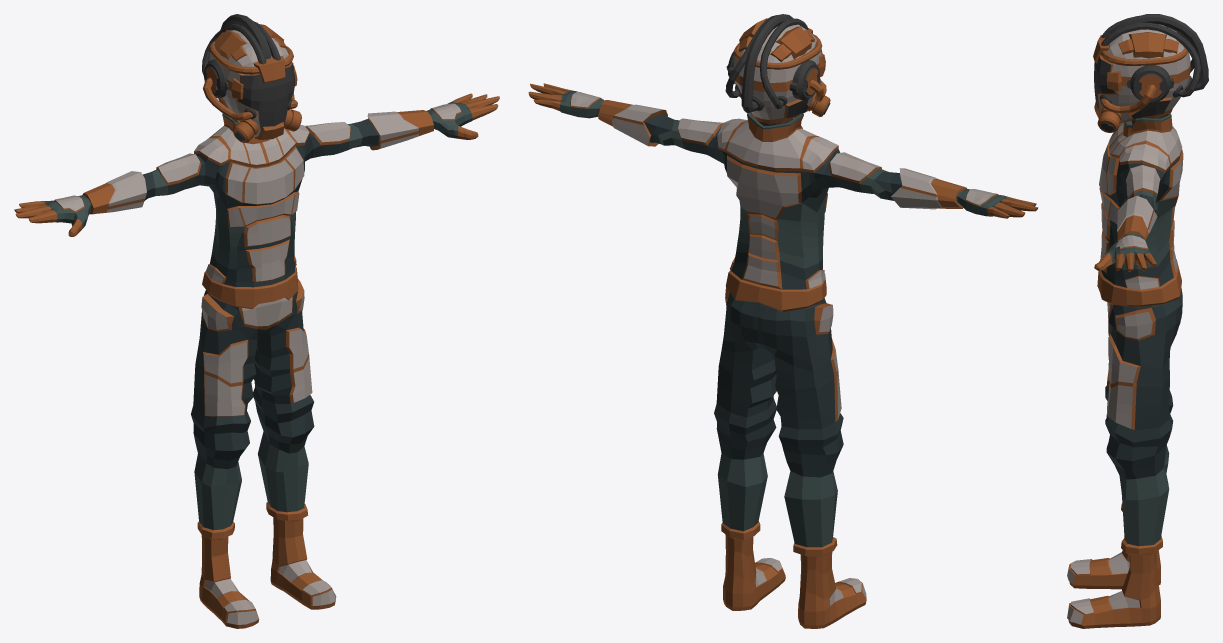
File: Astronaut.gltf
3 views of the same model, side by side, from view 1: azimuth 30°, elevation 25°; view 2: azimuth 150°, elevation 25°; view 3: azimuth 270°, elevation 25° (orthographic). The views are drawn at different scales.
Parts seen in each view (by area): view 1: SpaceSuit_Body, SpaceSuit_Legs, SpaceSuit_Head, SpaceSuit_Feet; view 2: SpaceSuit_Body, SpaceSuit_Legs, SpaceSuit_Head, SpaceSuit_Feet; view 3: SpaceSuit_Legs, SpaceSuit_Body, SpaceSuit_Head, SpaceSuit_Feet.
Part boxes in pixels (x1=…): SpaceSuit_Body: x1=14, y1=93, x2=499, y2=308; SpaceSuit_Legs: x1=191, y1=278, x2=314, y2=539; SpaceSuit_Head: x1=202, y1=14, x2=301, y2=142; SpaceSuit_Feet: x1=199, y1=517, x2=336, y2=628; SpaceSuit_Body: x1=528, y1=83, x2=1038, y2=311; SpaceSuit_Legs: x1=714, y1=287, x2=843, y2=556; SpaceSuit_Head: x1=725, y1=14, x2=830, y2=126; SpaceSuit_Feet: x1=723, y1=534, x2=866, y2=628; SpaceSuit_Legs: x1=1105, y1=288, x2=1182, y2=554; SpaceSuit_Body: x1=1094, y1=113, x2=1183, y2=306; SpaceSuit_Head: x1=1093, y1=14, x2=1208, y2=132; SpaceSuit_Feet: x1=1067, y1=550, x2=1160, y2=628.
Size of the model in its own units: 1.68 by 1.89 by 0.4128.
